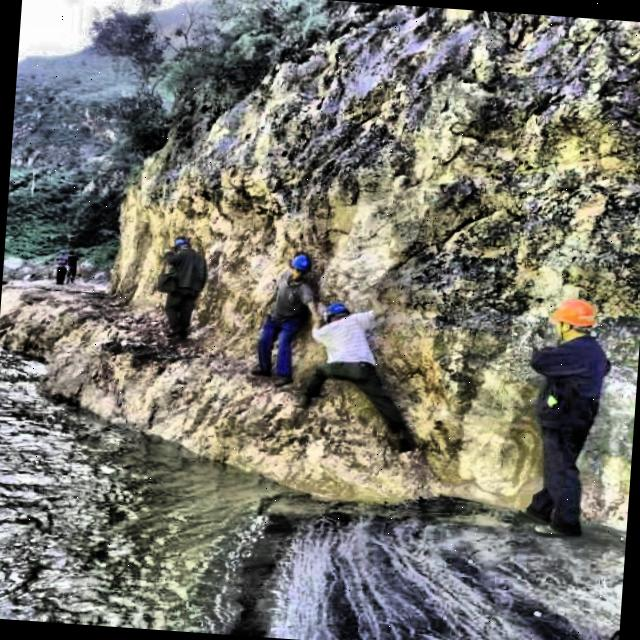helmet: (549, 294, 599, 338), (320, 298, 358, 330), (284, 250, 314, 284), (165, 230, 194, 256)
